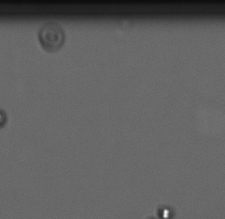Dead Cell: (37, 24, 65, 51), (1, 110, 7, 128)
Living Cell: (156, 204, 173, 217)
